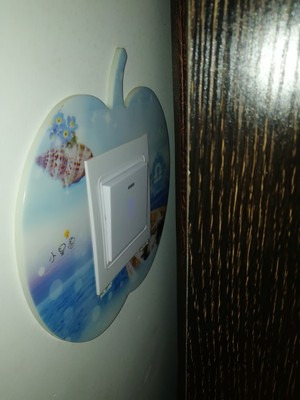switch: (97, 153, 154, 271)
